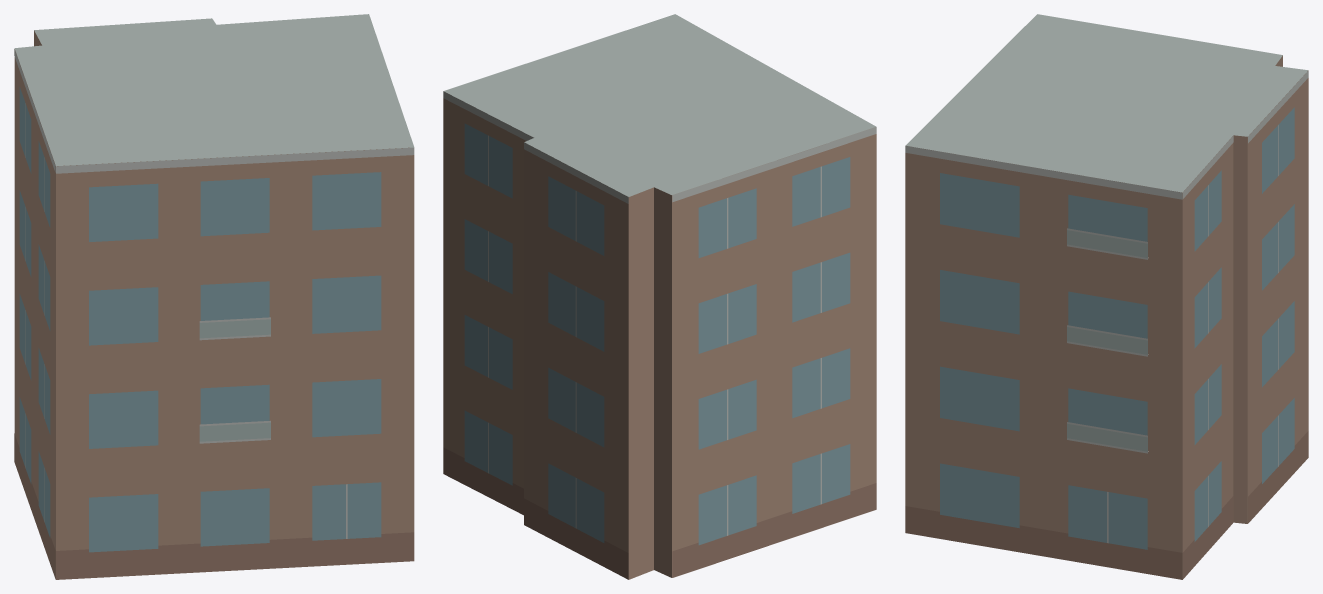
Rendered from survey-upis-32535470.glb.
3 views of the same model, side by side, from view 1: azimuth 30°, elevation 25°; view 2: azimuth 150°, elevation 25°; view 3: azimuth 270°, elevation 25° (orthographic). The views are drawn at different scales.
Parts seen in each view (by area): view 1: survey-upis-32535470.tmp; view 2: survey-upis-32535470.tmp; view 3: survey-upis-32535470.tmp.
Part boxes in pixels (x1,y1,x2,y2): survey-upis-32535470.tmp: [14, 14, 414, 579]; survey-upis-32535470.tmp: [443, 14, 876, 579]; survey-upis-32535470.tmp: [905, 14, 1308, 579].
Bounding box in the file's own units: 13.11 × 13.25 × 12.51.
